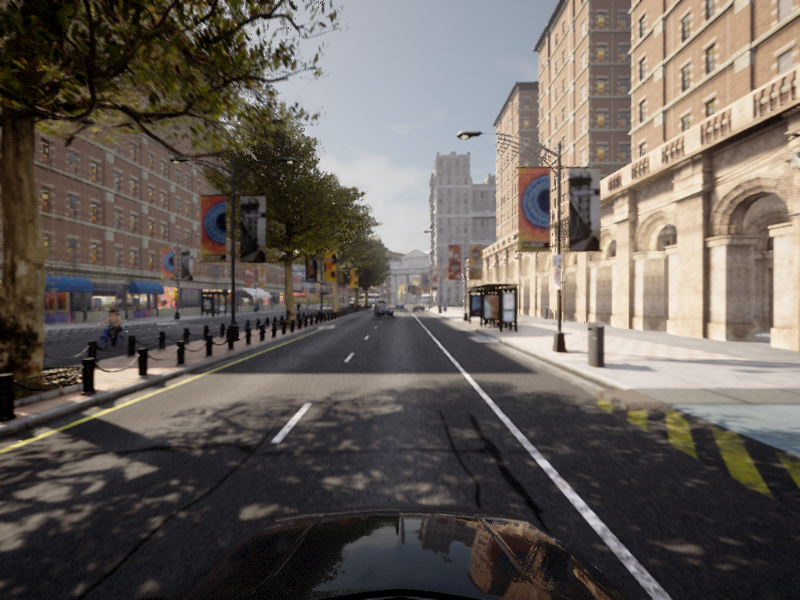vehicle: (85, 308, 134, 352), (1, 307, 38, 341), (373, 305, 394, 318), (292, 301, 302, 317)
